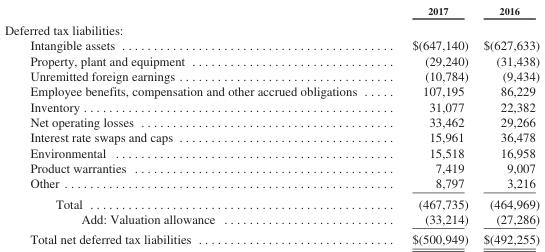table: (3, 4, 539, 246)
table column: (3, 4, 383, 246), (383, 4, 475, 246), (475, 4, 539, 246)
table column header: (3, 4, 539, 19)
table projected row header: (3, 19, 539, 37)
table row: (3, 19, 539, 37), (3, 175, 539, 193), (3, 210, 539, 228), (3, 228, 539, 246), (3, 193, 539, 210), (3, 67, 539, 83), (3, 113, 539, 129), (3, 159, 539, 175), (3, 4, 539, 19), (3, 37, 539, 52), (3, 52, 539, 67), (3, 83, 539, 98), (3, 98, 539, 113), (3, 129, 539, 144), (3, 144, 539, 159)
